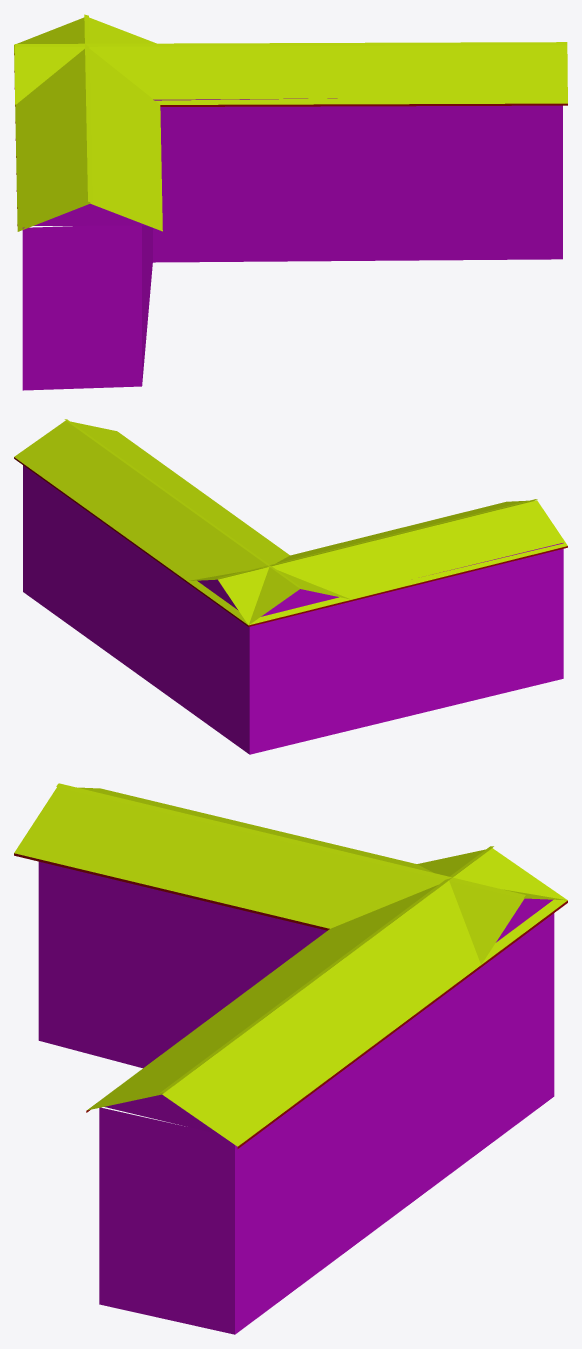
Rendered from rmc_59.glb.
The picture shows the model from 3 angles, top to bottom: view 1: azimuth 30°, elevation 25°; view 2: azimuth 150°, elevation 25°; view 3: azimuth 270°, elevation 25°; orthographic projection. The views are drawn at different scales.
Visible parts, largest first — view 1: rmc_59; view 2: rmc_59; view 3: rmc_59.
Boxes of the visible parts, bbox=[...] form: rmc_59: bbox=[14, 14, 567, 390]; rmc_59: bbox=[14, 419, 567, 754]; rmc_59: bbox=[14, 783, 567, 1334].
Size of the model in its own units: 37.58 by 11.27 by 24.56.
